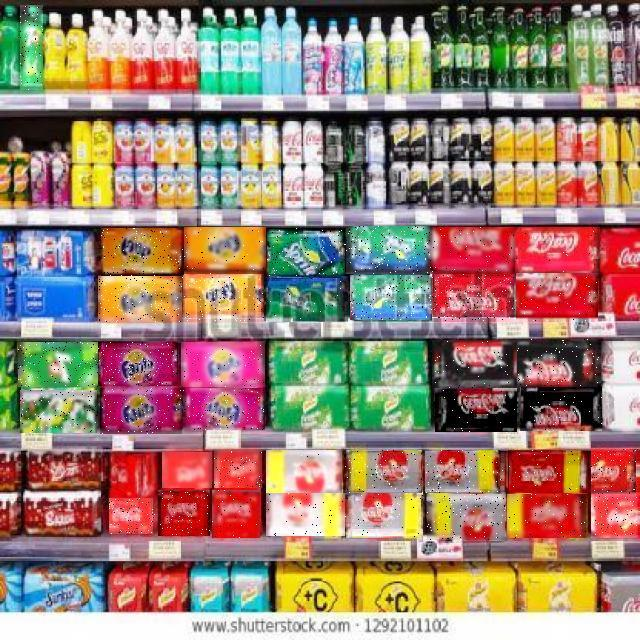Drinks: (432, 340, 520, 388), (430, 228, 515, 276), (515, 227, 600, 275), (101, 229, 184, 277), (185, 228, 267, 276), (268, 229, 350, 277), (348, 226, 430, 274), (516, 274, 598, 322), (518, 339, 600, 387), (98, 276, 182, 322), (432, 276, 516, 322), (181, 342, 265, 387), (182, 276, 264, 322), (101, 388, 183, 434), (350, 275, 433, 320), (520, 386, 602, 431), (435, 388, 517, 432), (266, 278, 348, 322), (19, 342, 99, 387), (427, 495, 505, 541), (345, 493, 423, 539), (99, 342, 179, 386), (508, 494, 588, 538), (183, 388, 265, 430), (266, 493, 345, 536), (508, 450, 587, 493), (426, 450, 504, 493), (344, 450, 422, 493), (20, 390, 97, 433), (267, 450, 343, 493), (158, 490, 210, 536), (212, 490, 260, 538), (592, 449, 640, 494), (592, 494, 640, 538), (20, 5, 43, 90), (215, 450, 263, 488), (162, 452, 212, 488), (110, 498, 156, 534)
